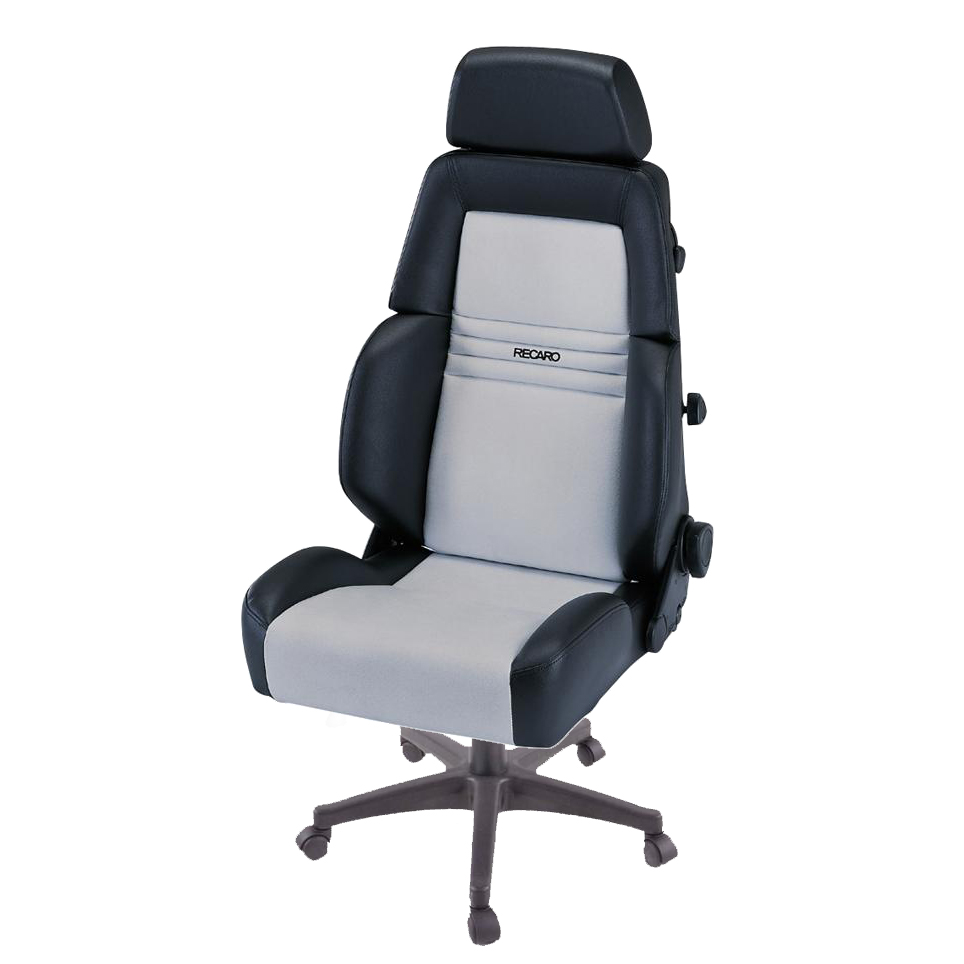chairs: (226, 44, 719, 940)
